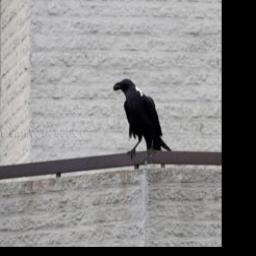Crow: (112, 76, 174, 168)
